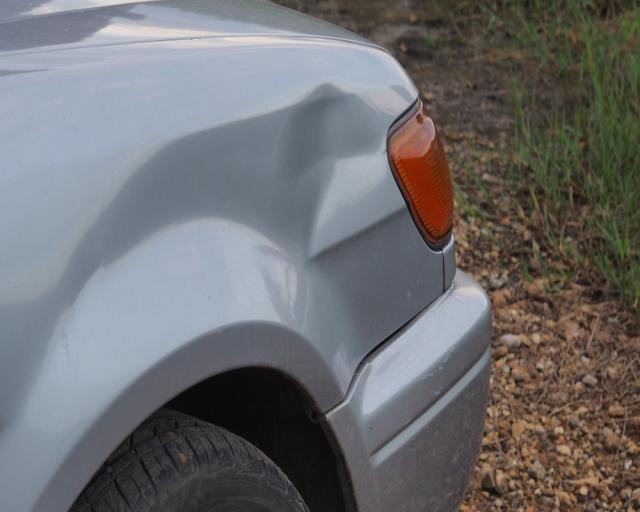dent: (276, 84, 391, 264)
